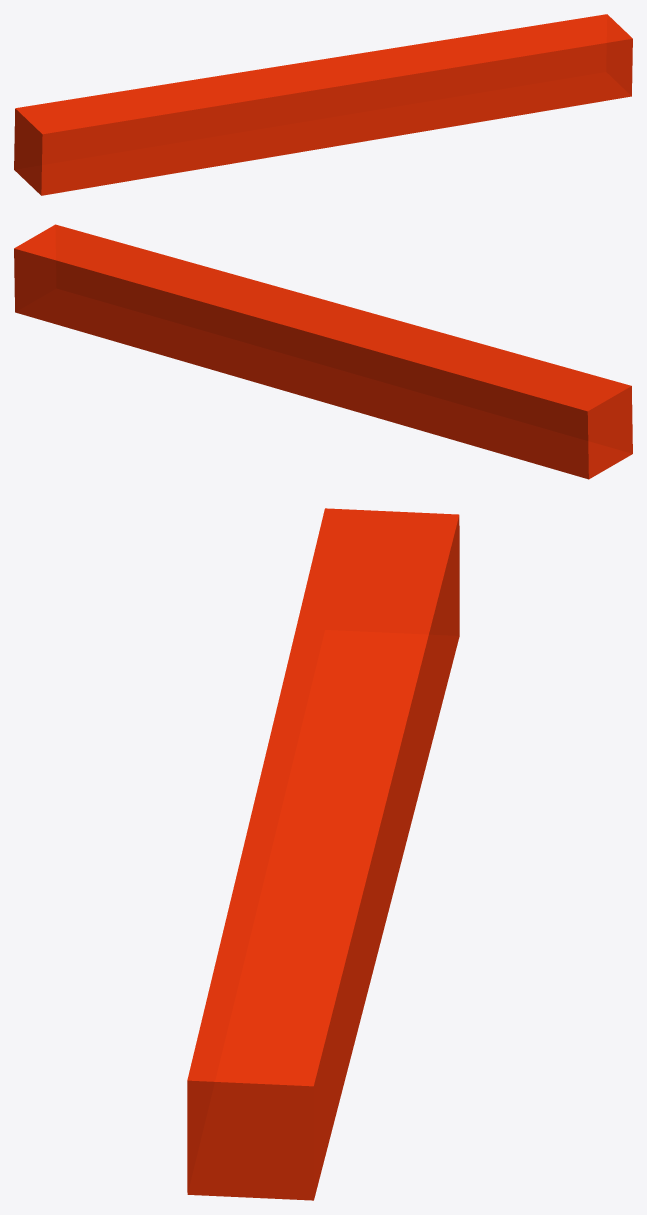
Rendered from Event_421556567_EErechit_31.fbx.
3 renders of one model, top to bottom at view 1: azimuth 30°, elevation 25°; view 2: azimuth 150°, elevation 25°; view 3: azimuth 270°, elevation 25°, orthographic. The views are drawn at different scales.
Parts seen in each view (by area): view 1: Model; view 2: Model; view 3: Model.
Boxes of the visible parts, box(x1,y1,x2,y2) form: Model: box(14, 14, 632, 195); Model: box(14, 224, 632, 479); Model: box(187, 508, 459, 1200).
Size of the model in its own units: 0.7419 by 0.0912 by 0.1554.
